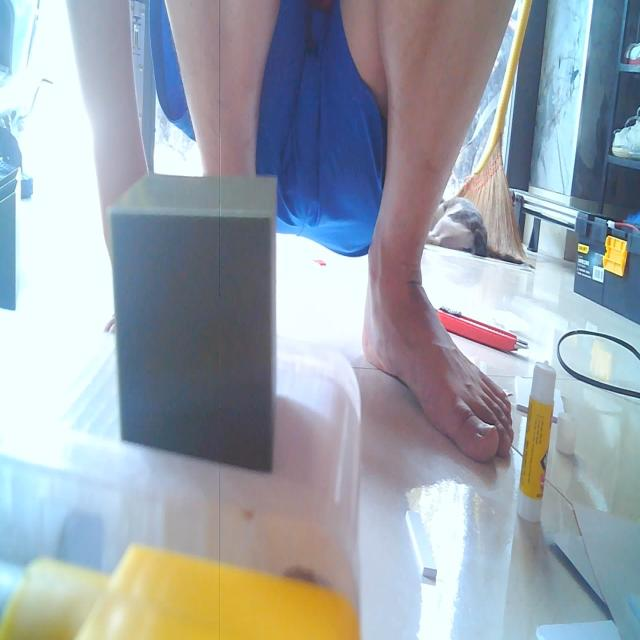green: (107, 163, 278, 482)
